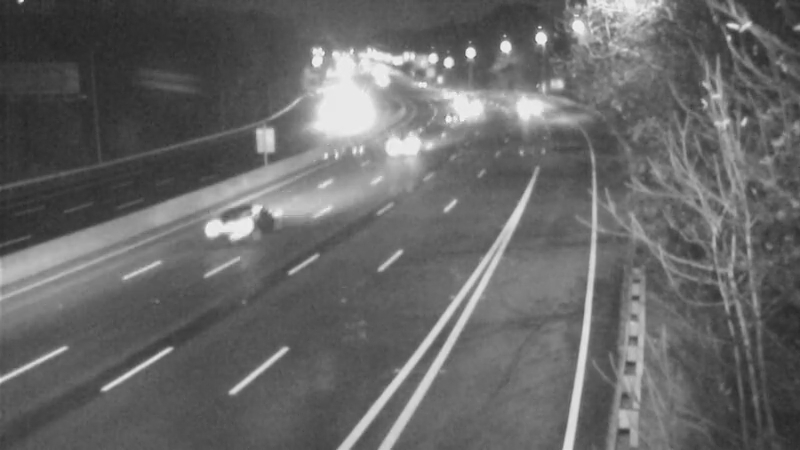vehicle: (188, 188, 268, 268), (497, 74, 547, 124), (438, 73, 488, 123), (444, 87, 494, 137), (426, 86, 476, 136), (389, 121, 439, 171)
